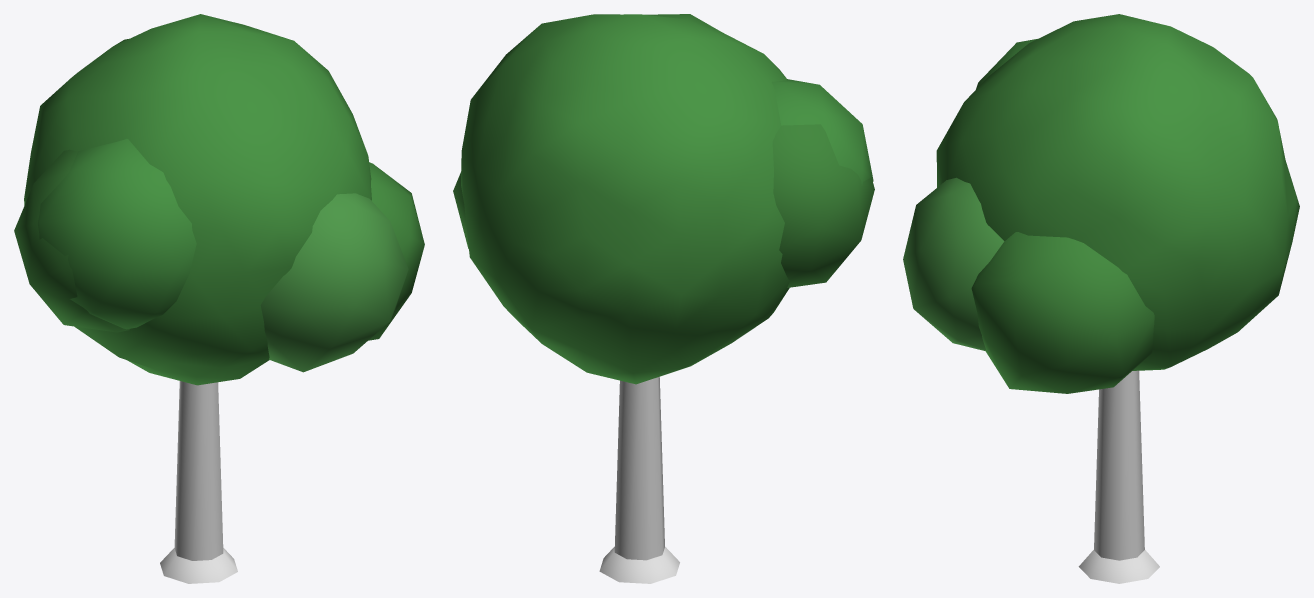
File: tree_round_b.fbx
3 views of the same model, side by side, from view 1: azimuth 30°, elevation 25°; view 2: azimuth 150°, elevation 25°; view 3: azimuth 270°, elevation 25° (orthographic). The views are drawn at different scales.
Parts seen in each view (by area): view 1: tree_round_b_canopy, tree_round_b; view 2: tree_round_b_canopy, tree_round_b; view 3: tree_round_b_canopy, tree_round_b.
Part boxes in pixels (<box>): tree_round_b_canopy: <box>14,14,424,385</box>; tree_round_b: <box>160,381,237,583</box>; tree_round_b_canopy: <box>453,14,874,384</box>; tree_round_b: <box>599,377,679,583</box>; tree_round_b_canopy: <box>903,14,1299,393</box>; tree_round_b: <box>1078,370,1159,583</box>.
Bounding box in the file's own units: 1.19 × 1.6 × 1.07.
